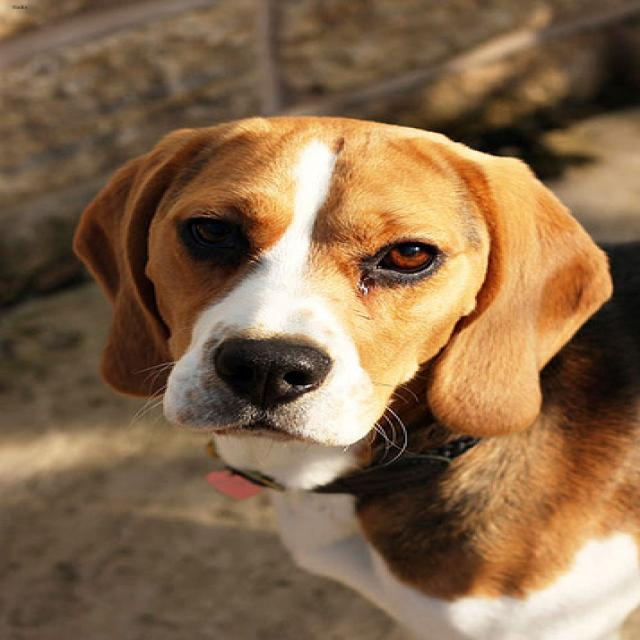dog-beagle: (59, 102, 636, 637)
